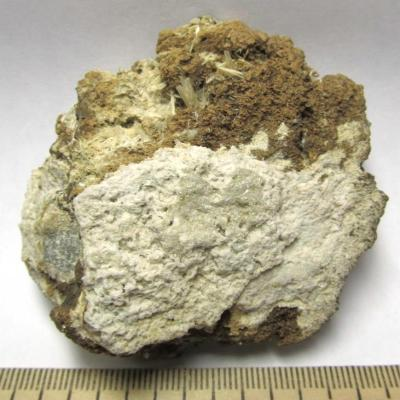natural_science_collection: (18, 16, 389, 364)
